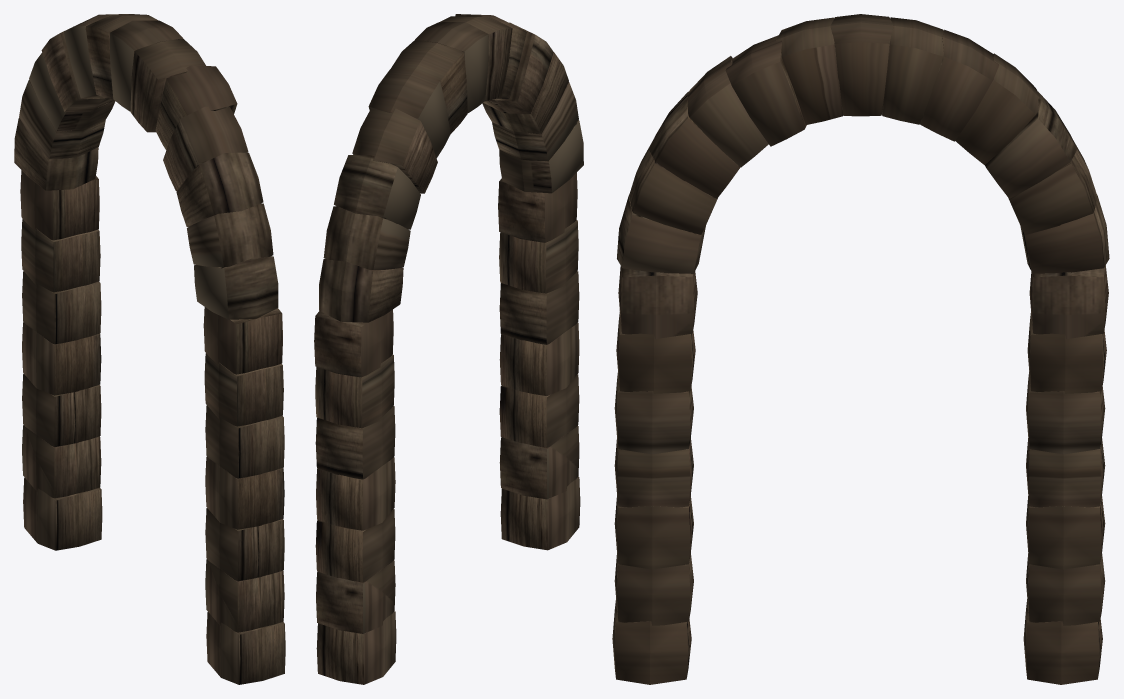
The model's file is Arco_Puerta.fbx.
3 renders of one model, left to right at view 1: azimuth 30°, elevation 25°; view 2: azimuth 150°, elevation 25°; view 3: azimuth 270°, elevation 25°, orthographic. The views are drawn at different scales.
Parts seen in each view (by area): view 1: Object130; view 2: Object130; view 3: Object130.
Boxes of the visible parts, x1=… form: Object130: x1=14, y1=14, x2=285, y2=684; Object130: x1=314, y1=14, x2=583, y2=684; Object130: x1=612, y1=14, x2=1109, y2=684.
Bounding box in the file's own units: 58.84 × 488 × 340.
